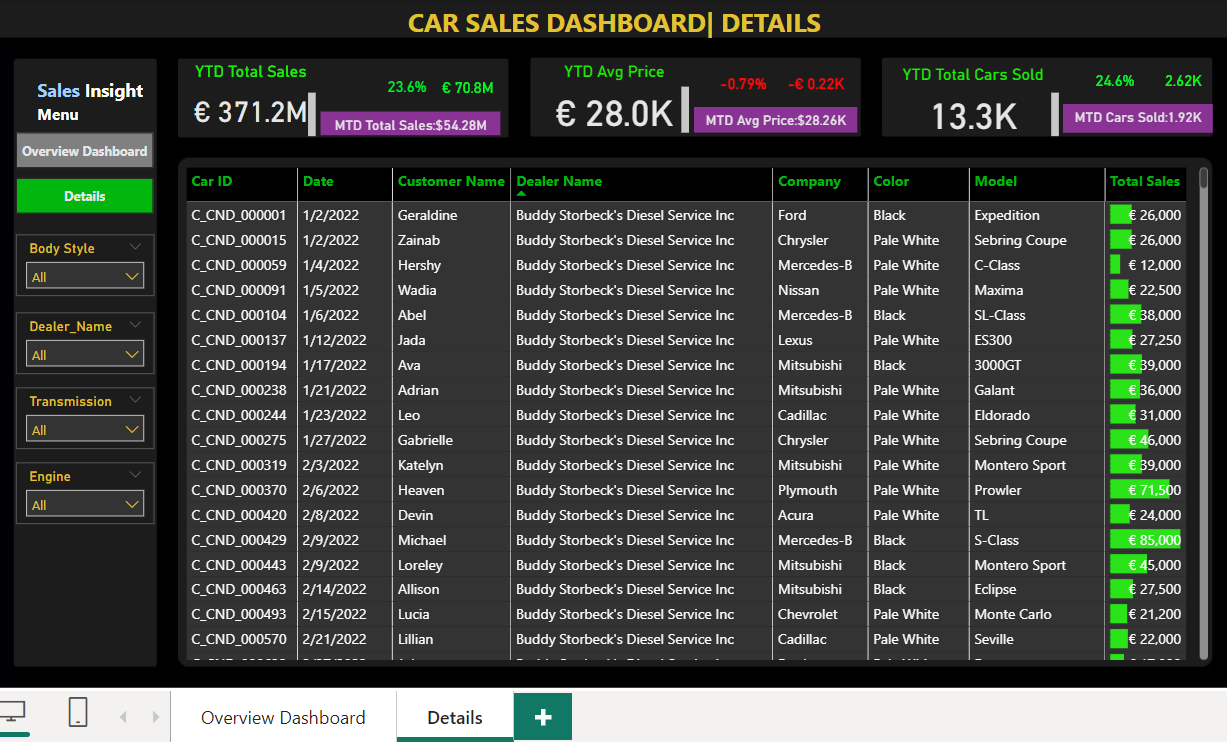

What the dashboard file says about the page in this screenshot:
{"tool":"powerbi","page":{"name":"Details","canvas":[1280,720],"ordinal":1},"visuals":[{"type":"card","title":"YTD Total Sales","fields":{"Values":["car_data.YTD Total Sales"]},"box":[190.5,65.6,145.2,79.7],"z":0},{"type":"textbox","box":[315.5,92.1,20.3,64],"z":1000},{"type":"card","fields":{"Values":["car_data.Diff YTD-PYTD Sales"]},"box":[454.5,75,68.7,35.9],"z":2000},{"type":"card","title":"YoY %","fields":{"Values":["car_data.YoY Sales Growth%"]},"box":[385.5,71.8,79.4,39.7],"z":3000},{"type":"card","title":"YTD Avg Price","fields":{"Values":["car_data.YTD Avg Price"]},"box":[548,66.1,187.1,79.4],"z":4000},{"type":"textbox","box":[702.8,85.9,21.9,65.6],"z":5000},{"type":"card","fields":{"Values":["car_data.Diff YTD-PYTD"]},"box":[810.6,71.8,81.2,32.8],"z":6000},{"type":"card","title":"YoY %","fields":{"Values":["car_data.YoY Avg Price%"]},"box":[735.6,75,79.7,28.1],"z":7000},{"type":"card","fields":{"Values":["car_data.Diff YTD-PYTD Cars Sold"]},"box":[1202.6,68.7,62.5,32.8],"z":8000},{"type":"card","title":"YoY %","fields":{"Values":["car_data.YoY Cars Sold%"]},"box":[1123.6,66,79.4,39.7],"z":9000},{"type":"card","title":"YTD Total Cars Sold","fields":{"Values":["car_data.YTD Cars Sold"]},"box":[922.2,68,187.1,79.4],"z":10000},{"type":"textbox","box":[1088.5,92.6,20.8,64.3],"z":11000},{"type":"card","fields":{"Values":["car_data.KPI Sales difference"]},"box":[335.8,117.1,187.4,25],"z":12000},{"type":"card","fields":{"Values":["car_data.KPI MTD Avg Price"]},"box":[724.7,112.5,170.2,26.6],"z":13000},{"type":"card","fields":{"Values":["car_data.KPI Cars Sold"]},"box":[1108.9,109.3,156.2,29.7],"z":14000},{"type":"textbox","box":[421.7,0,532.6,51.5],"z":15000},{"type":"slicer","fields":{"Values":["car_data.Body Style"]},"box":[18.7,245.2,143.7,64],"z":16000},{"type":"slicer","fields":{"Values":["car_data.Dealer_Name"]},"box":[18.7,326.4,143.7,64],"z":17000},{"type":"slicer","fields":{"Values":["car_data.Transmission"]},"box":[18.7,404.5,143.7,64],"z":18000},{"type":"slicer","fields":{"Values":["car_data.Engine"]},"box":[18.7,482.6,143.7,64],"z":19000},{"type":"tableEx","fields":{"Values":["car_data.Car_id","car_data.Date","car_data.Customer Name","car_data.Dealer_Name","car_data.Company","car_data.Color","car_data.Model","car_data.Total Sales"]},"box":[190.5,170.2,1074.5,523.2],"z":20000},{"type":"pageNavigator","box":[18.7,139,143.7,84.3],"z":21000},{"type":"textbox","box":[35.9,103.1,78.1,32.8],"z":22000},{"type":"textbox","box":[36.6,77.2,135.9,40.6],"z":23000}]}

Visuals, with their boxes on the page's 1280x720 design canvas (x1, y1, x2, y2). These are canvas units, not pixel positions in the 1227x742 screenshot, which may show the page scaled, cropped or inside an application window:
"YTD Total Sales" card: 190 66 336 145
textbox: 316 92 336 156
card - car_data.Diff YTD-PYTD Sales: 454 75 523 111
"YoY %" card: 386 72 465 112
"YTD Avg Price" card: 548 66 735 146
textbox: 703 86 725 152
card - car_data.Diff YTD-PYTD: 811 72 892 105
"YoY %" card: 736 75 815 103
card - car_data.Diff YTD-PYTD Cars Sold: 1203 69 1265 102
"YoY %" card: 1124 66 1203 106
"YTD Total Cars Sold" card: 922 68 1109 147
textbox: 1088 93 1109 157
card - car_data.KPI Sales difference: 336 117 523 142
card - car_data.KPI MTD Avg Price: 725 112 895 139
card - car_data.KPI Cars Sold: 1109 109 1265 139
textbox: 422 0 954 52
slicer - car_data.Body Style: 19 245 162 309
slicer - car_data.Dealer_Name: 19 326 162 390
slicer - car_data.Transmission: 19 404 162 468
slicer - car_data.Engine: 19 483 162 547
tableEx - car_data.Car_id x car_data.Date: 190 170 1265 693
pageNavigator: 19 139 162 223
textbox: 36 103 114 136
textbox: 37 77 172 118
